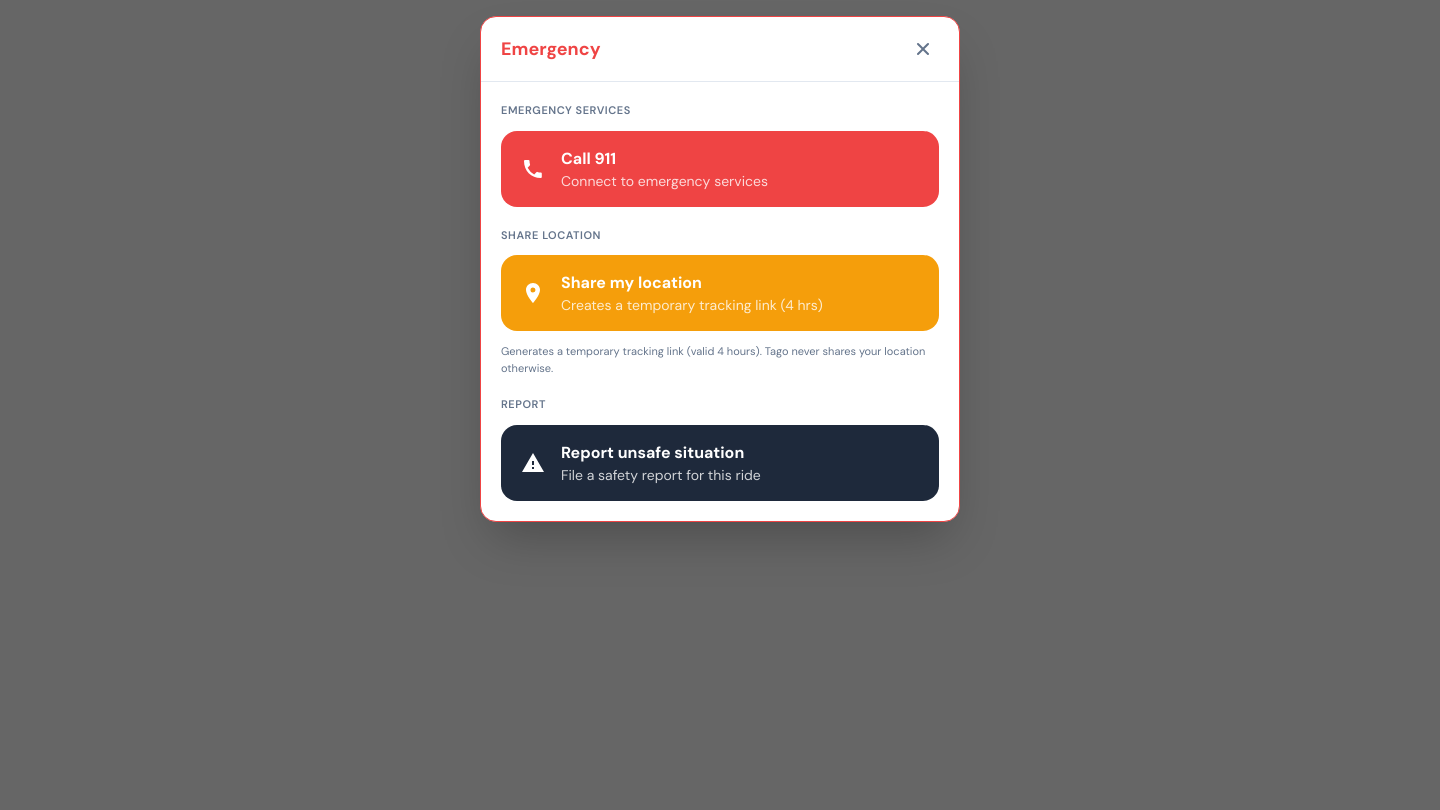
Scenario: EmergencySheet › shows error state on API failure
Click the button with test id "emergency-share-location": click(720, 293) [501,255,939,331]
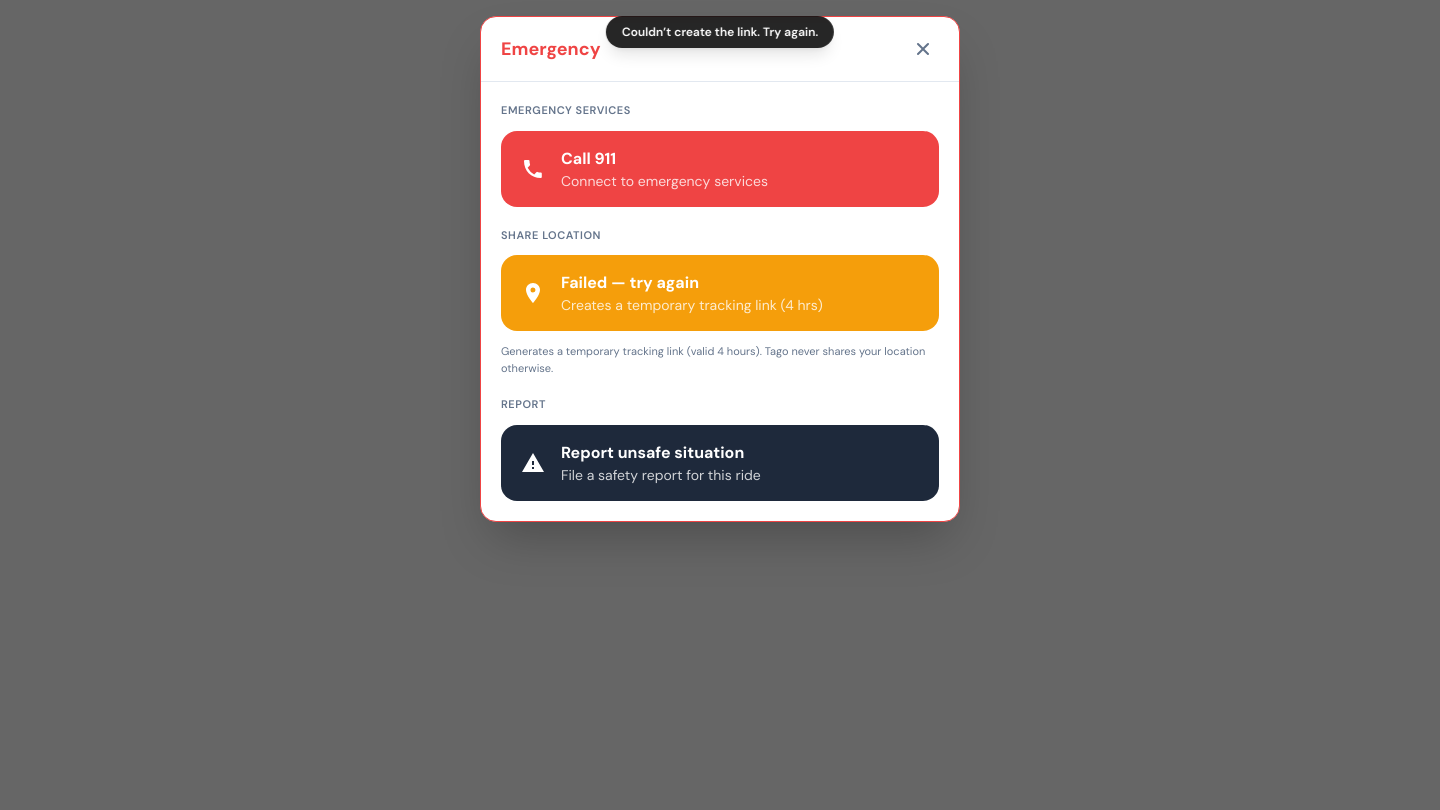
Expected: the button with test id "emergency-share-location" shows "Failed", [501,255,939,331]
